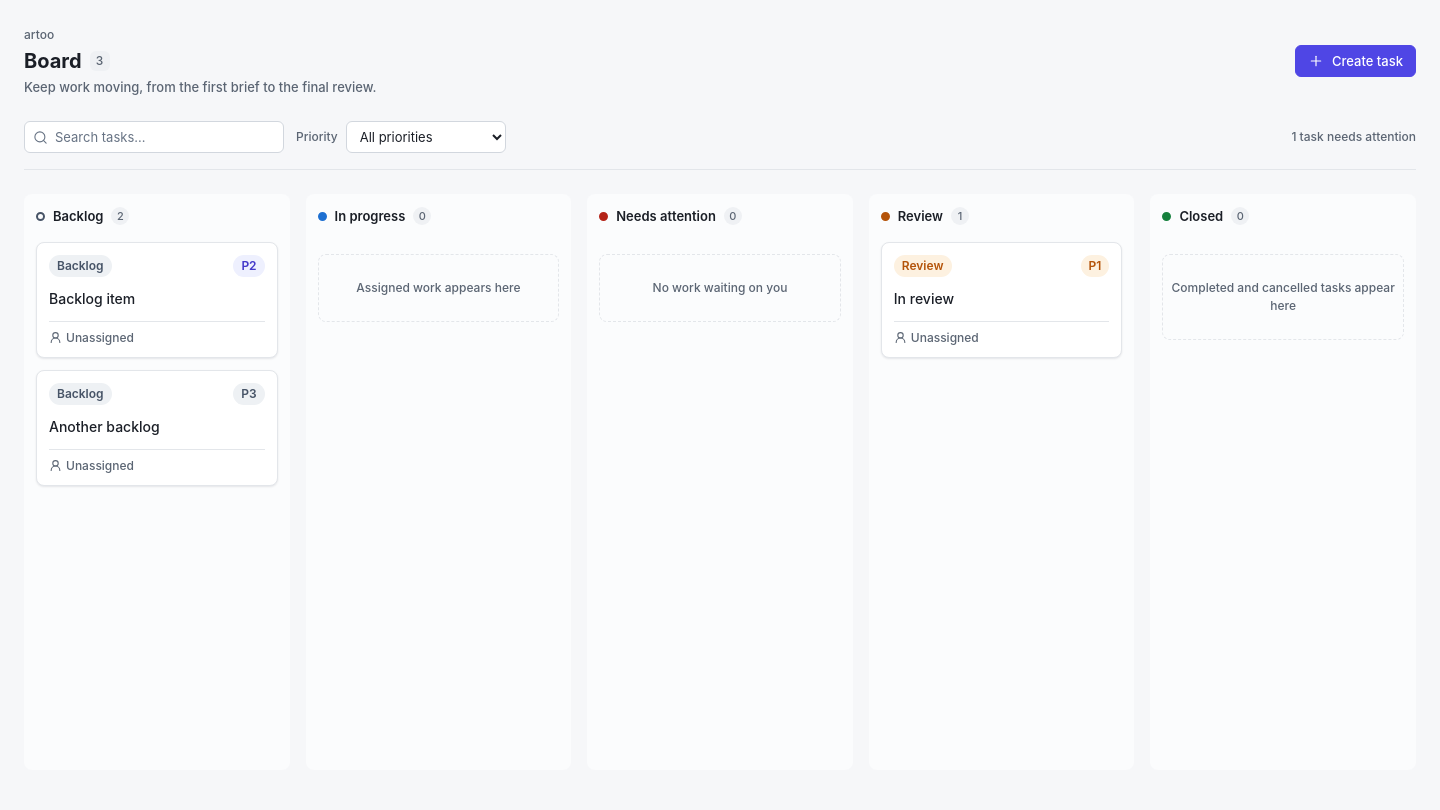
Test: BoardView › filters by priority
Expected: the element "Backlog" is shown, left=24, top=194, right=290, bottom=770
Step 1. Select "P3 · Low" in the dropdown labelled "Priority" → (426, 137), box left=346, top=121, right=506, bottom=153
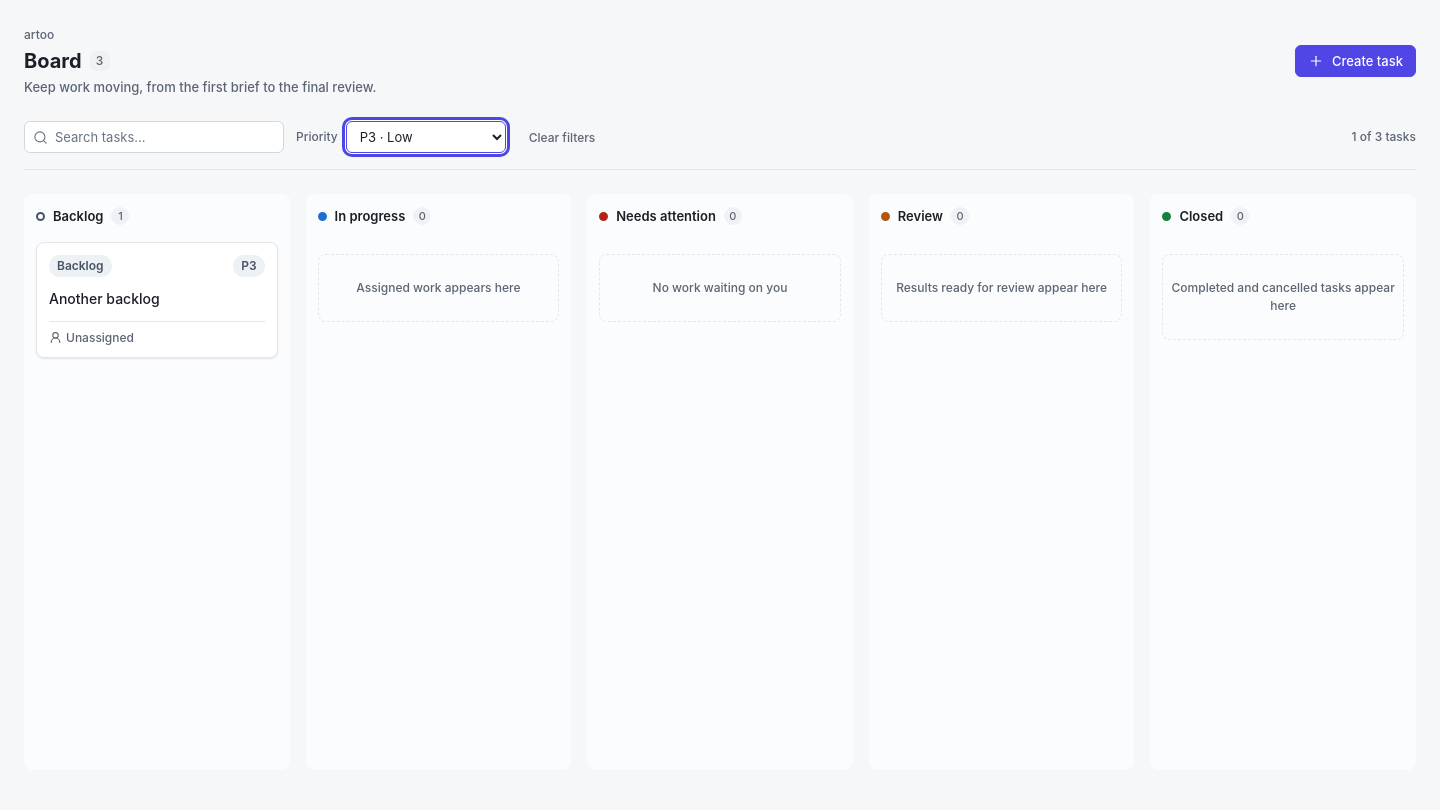
Expected: the text "Another backlog" is shown, left=49, top=290, right=160, bottom=307
Now the button "Backlog item" is gone
Now the button "In review" is gone
